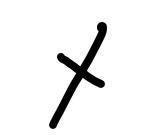mult: (49, 22, 108, 129)
